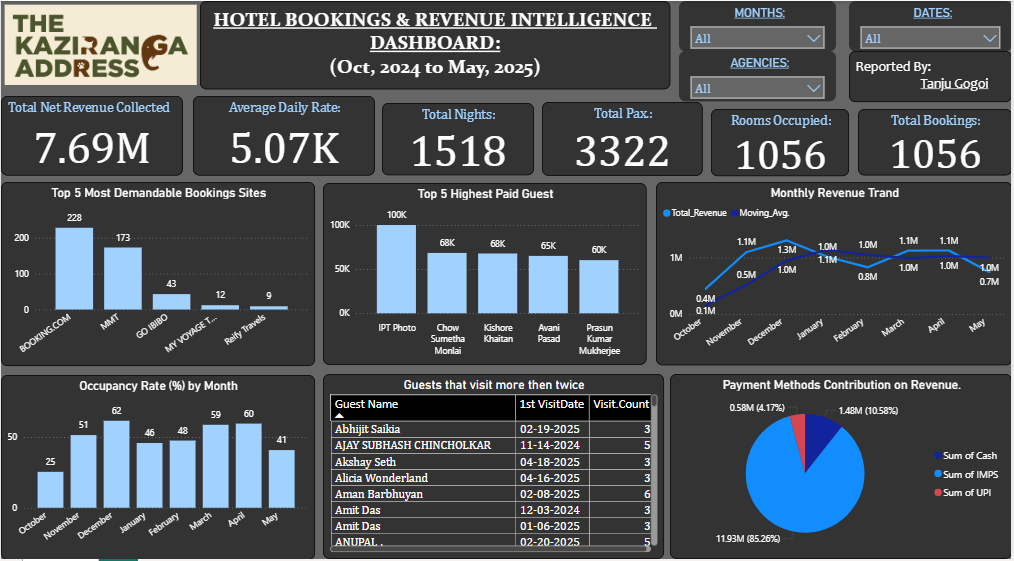

The page's visual inventory and layout, read from the dashboard file:
{"tool":"powerbi","page":{"name":"Page 1","canvas":[1384,764],"ordinal":0},"visuals":[{"type":"image","box":[0,0,272.7,120.6],"z":0},{"type":"textbox","box":[272.8,0,643.7,120.7],"z":1000},{"type":"card","title":"Total Net Revenue Collected","fields":{"Values":["Sum(All_Bookings.Room Rent(Excluding Taxes))"]},"box":[0,129.5,248.9,109.4],"z":2000},{"type":"card","title":"Average Daily Rate:","fields":{"Values":["All_Bookings2.ADR"]},"box":[262.2,129.9,249.2,108.7],"z":3000},{"type":"slicer","title":"DATES:","fields":{"Values":["DateTable.Date"]},"box":[1160.5,0,223.5,69.1],"z":4000},{"type":"slicer","title":"MONTHS:","fields":{"Values":["DateTable.Month"]},"box":[928.1,0,215.1,69.1],"z":5000},{"type":"card","title":"Total Nights:","fields":{"Values":["Sum(All_Bookings.Nights)"]},"box":[522.1,139.4,207.9,99.2],"z":6000},{"type":"card","title":"Total Pax.:","fields":{"Values":["Sum(All_Bookings2.Total_PAX)"]},"box":[740.5,138.3,220,100.6],"z":7000},{"type":"card","title":"Total Bookings:","fields":{"Values":["All_Bookings.Total Bookings"]},"box":[1172.9,147.7,211.4,91],"z":8000},{"type":"slicer","title":"AGENCIES:","fields":{"Values":["Plan_wise_Booking_Details.GroupName_Filtered"]},"box":[928.1,69.1,215.1,69.1],"z":9000},{"type":"clusteredColumnChart","title":"Top 5 Most Demandable Bookings Sites","fields":{"Y":["CountNonNull(Plan_wise_Booking_Details.Res#)"],"Category":["Plan_wise_Booking_Details.GroupName_Filtered"]},"box":[0,248.1,430,251.6],"z":10000},{"type":"clusteredColumnChart","fields":{"Y":["StayDate.Occupancy_Rate"],"Category":["DateTable.Month"]},"box":[0,511.5,430,252.8],"z":11000},{"type":"clusteredColumnChart","title":"Top 5 Highest Paid Guest","fields":{"Category":["Plan_wise_Booking_Details.Guest"],"Y":["Sum(Plan_wise_Booking_Details.Total)"]},"box":[440.7,249.4,443.2,249.4],"z":12000},{"type":"lineChart","title":"Monthly Revenue Trand","fields":{"Category":["DateTable.Month"],"Y":["All_Bookings.Total_Revenue","All_Bookings.Moving_Avg."]},"box":[896.3,248.1,487.7,250.6],"z":13000},{"type":"card","title":"Rooms Occupied:","fields":{"Values":["StayDate.RoomsOccupied"]},"box":[972.1,147.7,189,92.1],"z":14000},{"type":"actionButton","box":[0,0,100,40],"z":15000},{"type":"tableEx","title":"Guests that visit more then twice","fields":{"Values":["All_Bookings.Guest Name","All_Bookings.Check In","All_Bookings.Guest_Visit_Count"]},"box":[440.7,511.1,466.7,253.1],"z":16000},{"type":"pieChart","title":"Payment Methods Contribution on Revenue.","fields":{"Y":["Sum(DayWise_Revenue.Cash)","Sum(DayWise_Revenue.IMPS)","Sum(DayWise_Revenue.UPI)"]},"box":[916,511.1,467.9,253.1],"z":17000},{"type":"textbox","box":[1160.5,69.1,223.5,70.4],"z":18000}]}

Visuals, with their boxes in screenshot pixels (x1, y1, x2, y2), scaled from the page's 1384x764 canvas onto the 1014x561 screenshot:
image: box=[0, 0, 200, 89]
textbox: box=[200, 0, 671, 89]
"Total Net Revenue Collected" card: box=[0, 95, 182, 175]
"Average Daily Rate:" card: box=[192, 95, 375, 175]
"DATES:" slicer: box=[850, 0, 1013, 51]
"MONTHS:" slicer: box=[680, 0, 838, 51]
"Total Nights:" card: box=[383, 102, 535, 175]
"Total Pax.:" card: box=[543, 102, 704, 175]
"Total Bookings:" card: box=[859, 108, 1013, 175]
"AGENCIES:" slicer: box=[680, 51, 838, 101]
"Top 5 Most Demandable Bookings Sites" clusteredColumnChart: box=[0, 182, 315, 367]
clusteredColumnChart - StayDate.Occupancy_Rate x DateTable.Month: box=[0, 376, 315, 560]
"Top 5 Highest Paid Guest" clusteredColumnChart: box=[323, 183, 648, 366]
"Monthly Revenue Trand" lineChart: box=[657, 182, 1013, 366]
"Rooms Occupied:" card: box=[712, 108, 851, 176]
actionButton: box=[0, 0, 73, 29]
"Guests that visit more then twice" tableEx: box=[323, 375, 665, 560]
"Payment Methods Contribution on Revenue." pieChart: box=[671, 375, 1013, 560]
textbox: box=[850, 51, 1013, 102]
